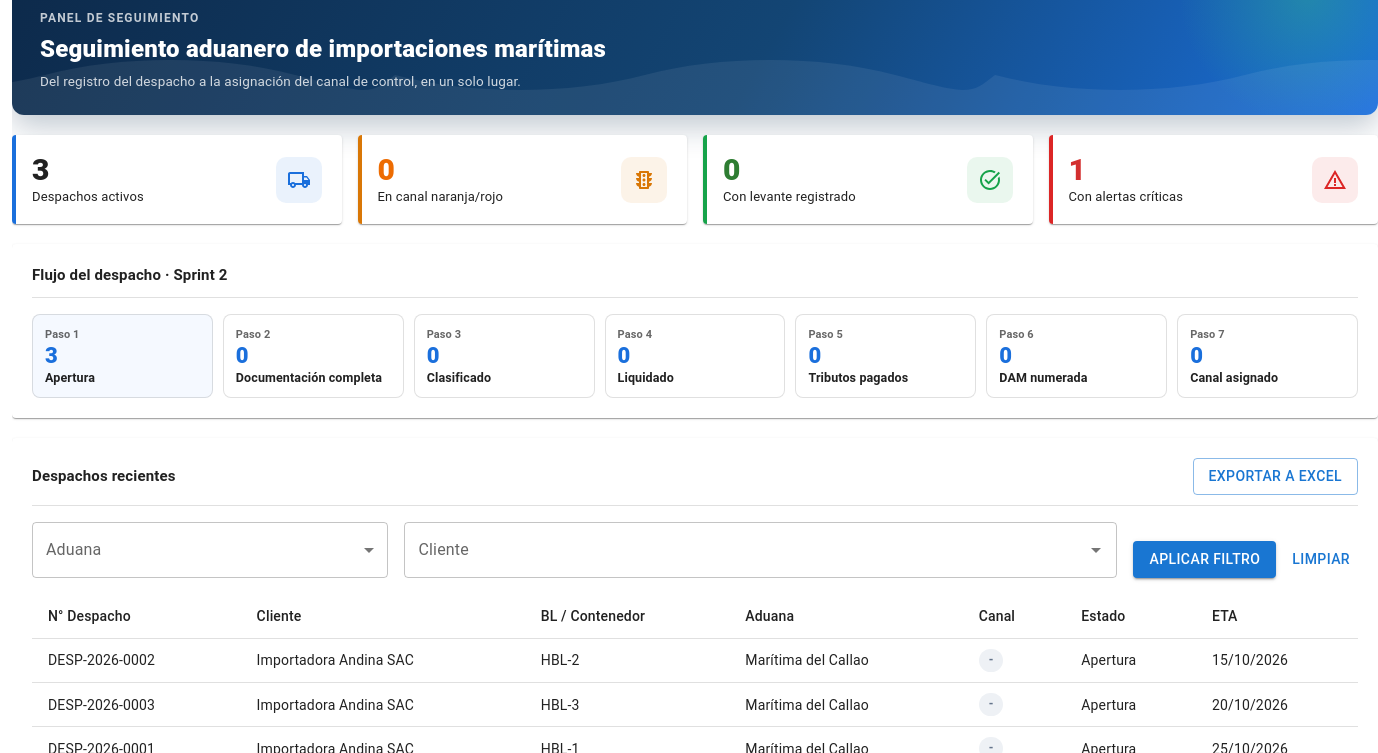
DashboardPage (HU-02) › CA4: «Aplicar filtro» guarda la aduana en la URL y recarga con el filtro
Check: the text "DESP-2026-0002" is shown, box 32,638 -> 241,682
Click the 1st dropdown at (210, 550), box 32,522 -> 388,578
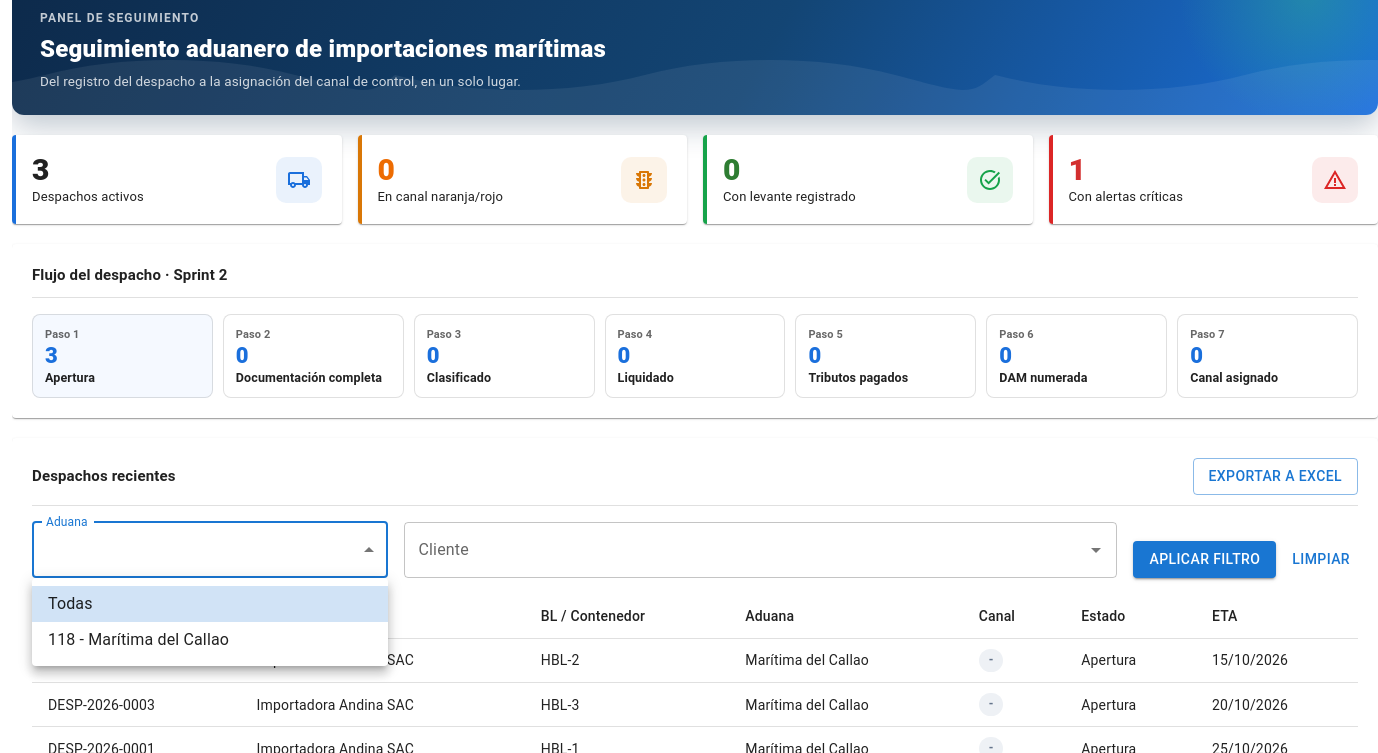
Click the option "118 - Marítima del Callao" at (139, 640), box 48,630 -> 229,649
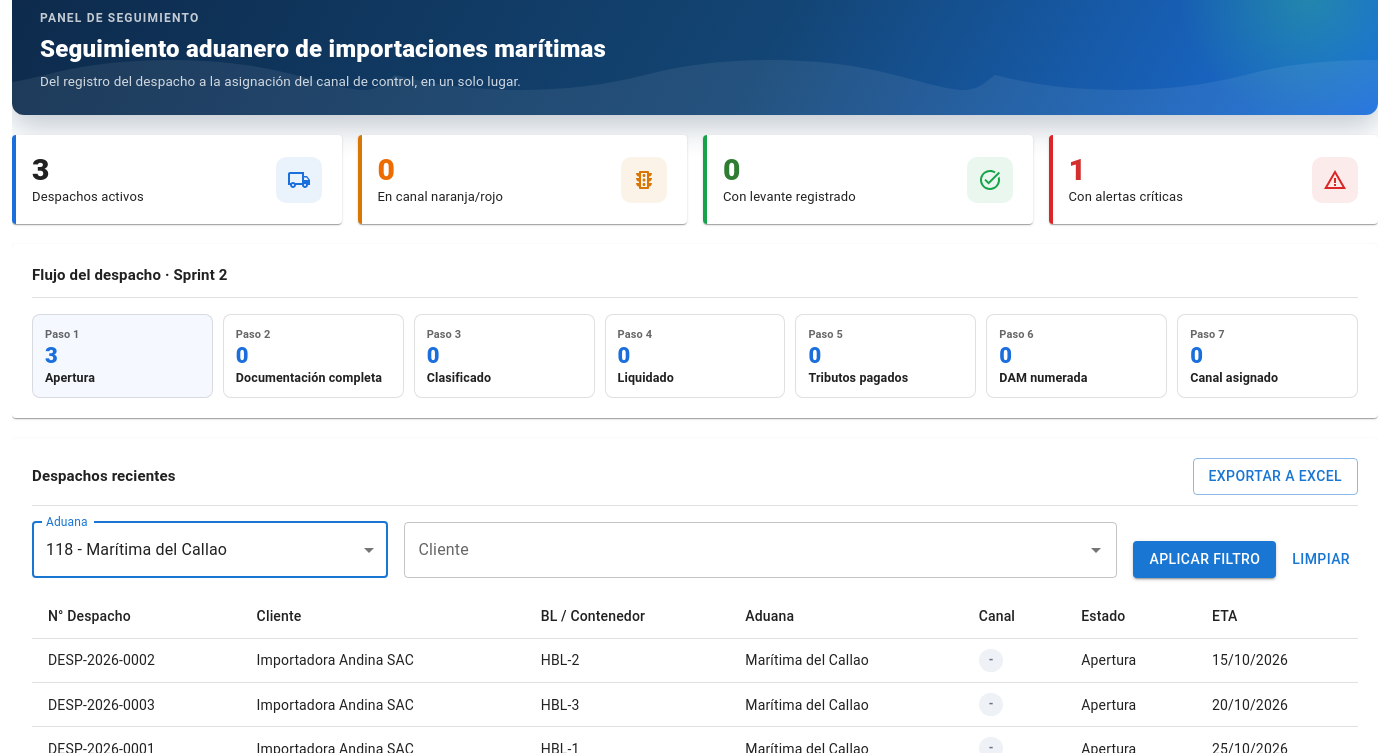
Click the button "Aplicar filtro" at (1205, 560), box 1134,541 -> 1276,578
(page scrolled)
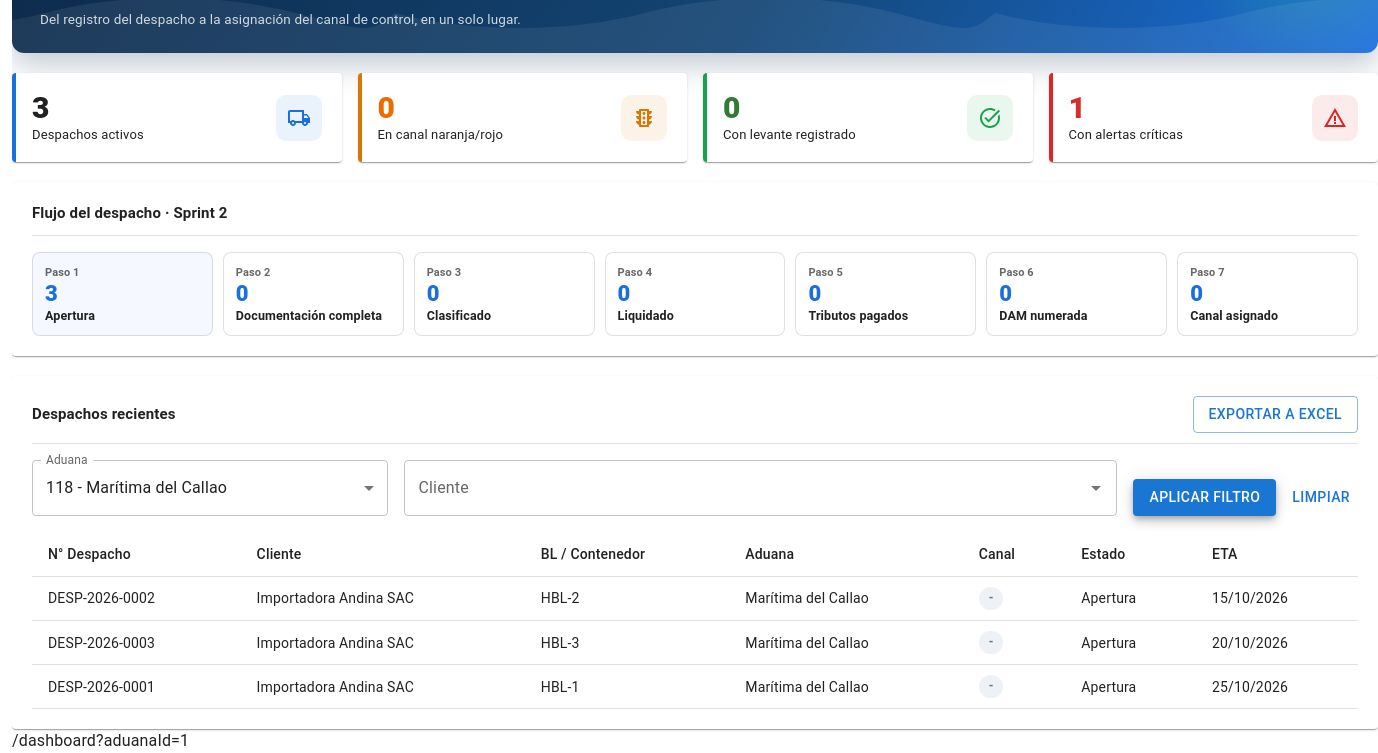
Check: the text with test id "ubicacion" reads "/dashboard?aduanaId=1", box 12,731 -> 189,750
